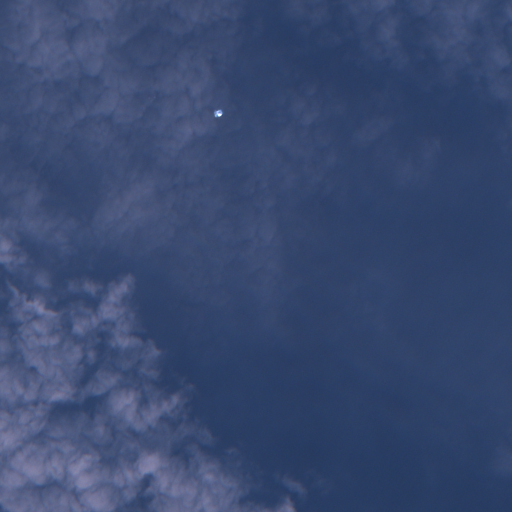Iceberg: (214, 110, 222, 116)
